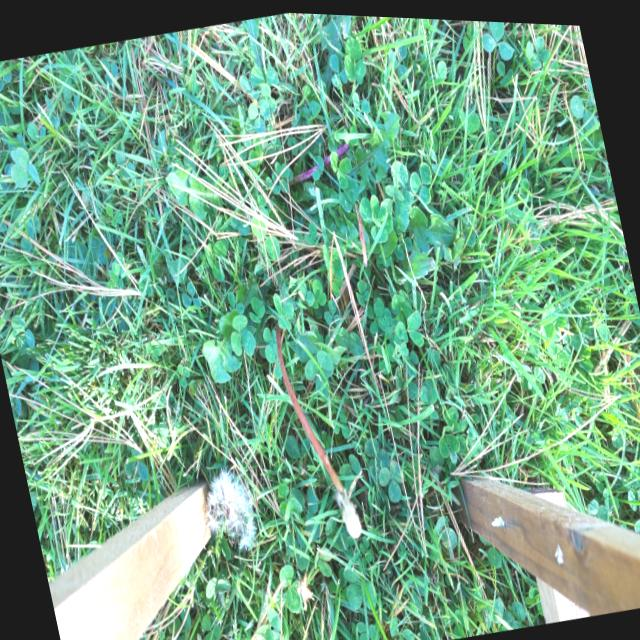base: (268, 307, 290, 342)
